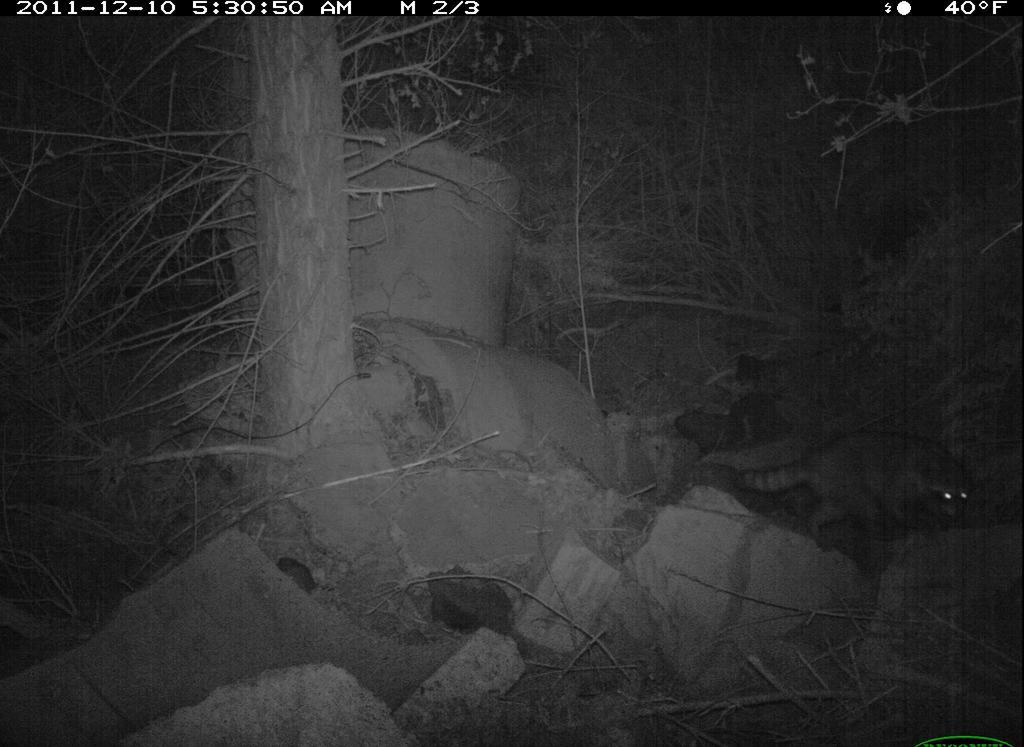raccoon: (730, 422, 981, 555)
